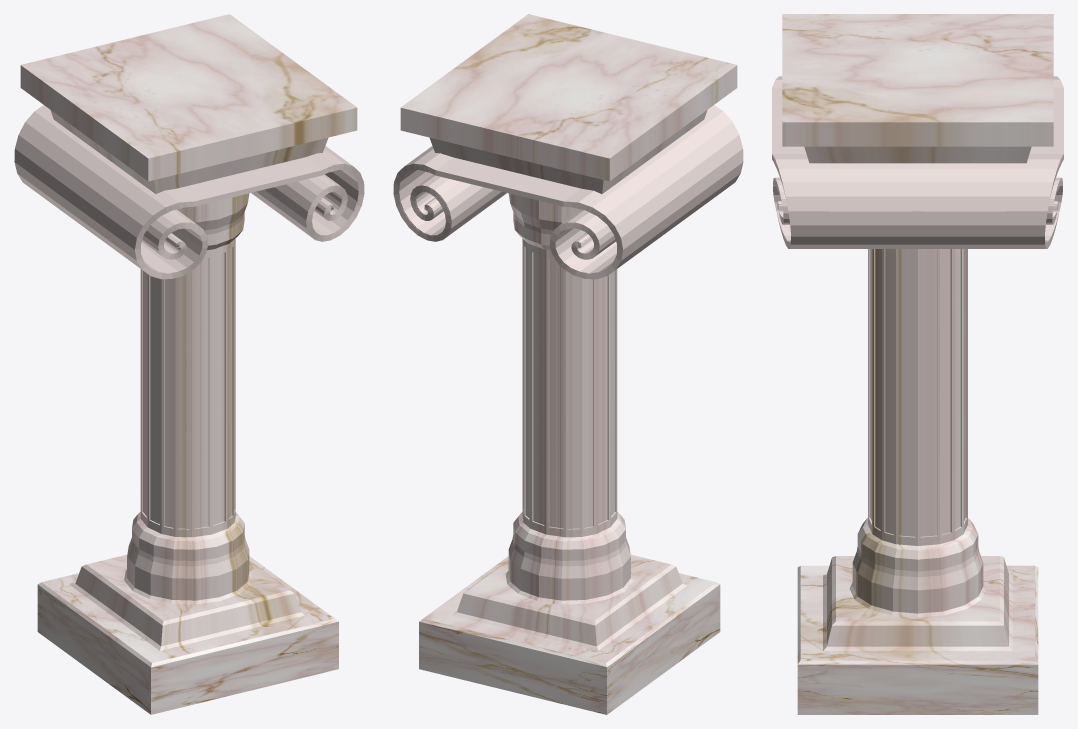
The model's file is pilarGriego.fbx.
3 renders of one model, left to right at view 1: azimuth 30°, elevation 25°; view 2: azimuth 150°, elevation 25°; view 3: azimuth 270°, elevation 25°, orthographic. The views are drawn at different scales.
Visible parts, largest first — view 1: Cube; view 2: Cube; view 3: Cube.
Boxes of the visible parts, bbox=[...] form: Cube: bbox=[14, 14, 364, 714]; Cube: bbox=[393, 14, 743, 714]; Cube: bbox=[772, 14, 1063, 714].
Size of the model in its own units: 137 by 322 by 142.
Materials: 1 (1 with a texture image).
